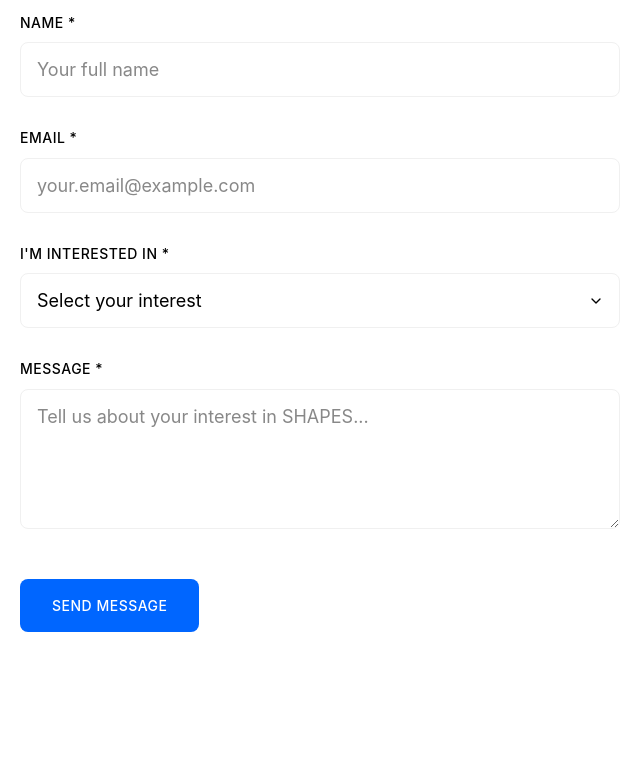
Test: ContactForm › shows validation errors for empty required fields
The image size is (639, 761).
Click the button "Send Message" at (110, 605), box [20,579,200,632]
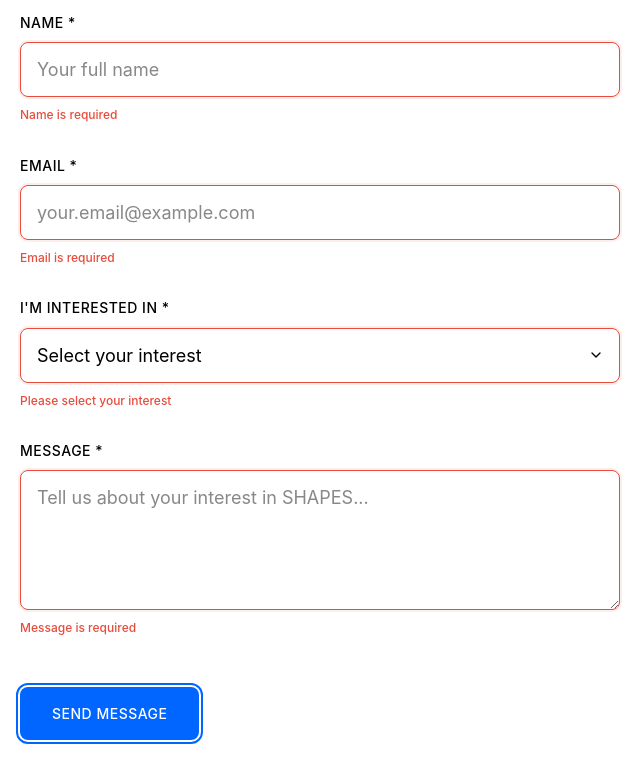
Expected: the text "Name is required" is shown, [20,107,118,122]
Expected: the text "Email is required" is shown, [20,250,115,265]
Expected: the text "Please select your interest" is shown, [20,392,172,408]
